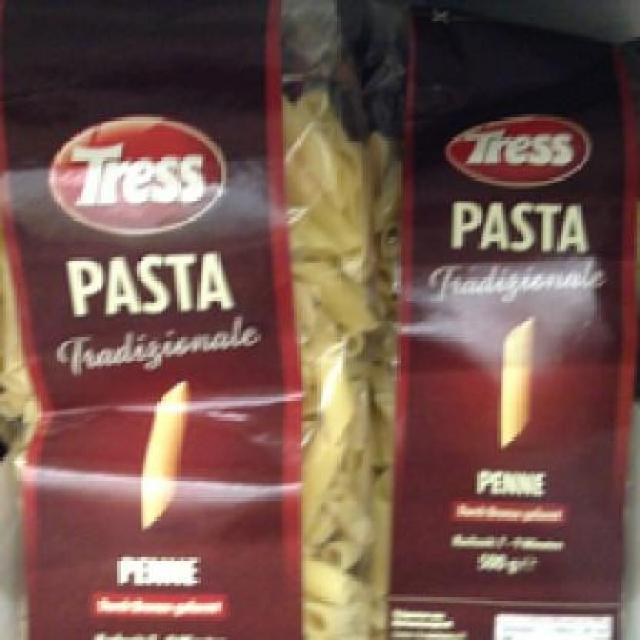Pasta: (0, 1, 372, 638), (366, 5, 634, 638)
